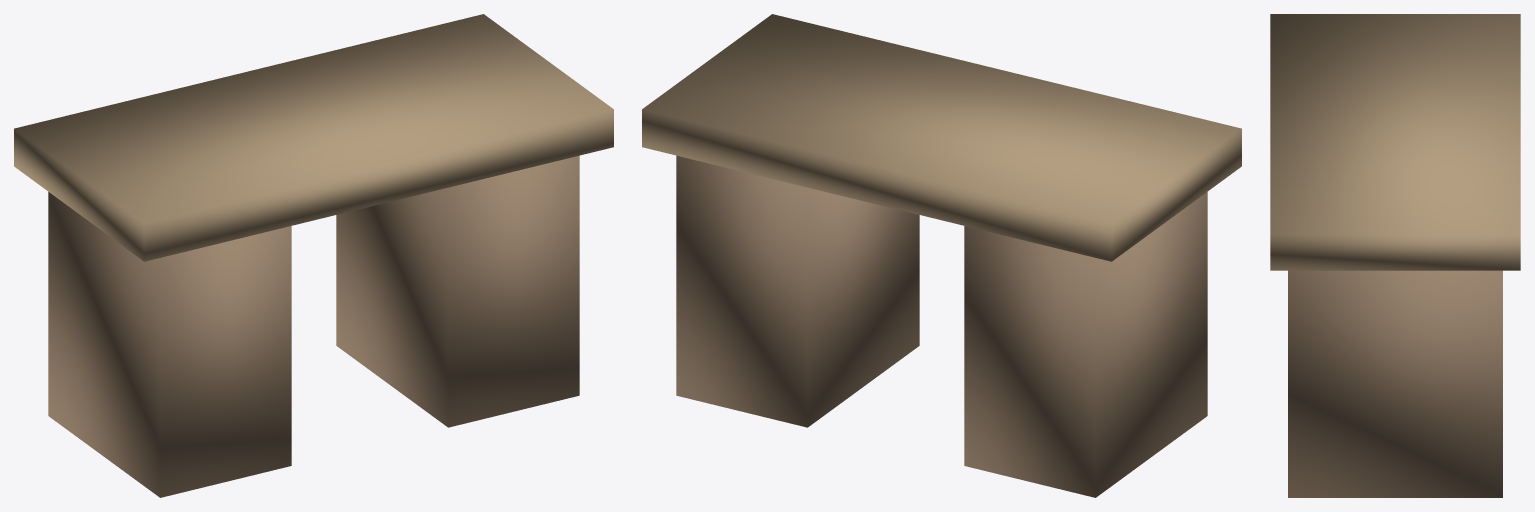
Rendered from teacher_desk__tall.glb.
The picture shows the model from 3 angles, left to right: view 1: azimuth 30°, elevation 25°; view 2: azimuth 150°, elevation 25°; view 3: azimuth 270°, elevation 25°; orthographic projection. The views are drawn at different scales.
Visible parts, largest first — view 1: world; view 2: world; view 3: world.
Boxes of the visible parts, x1=… form: world: x1=14, y1=14, x2=613, y2=497; world: x1=642, y1=14, x2=1241, y2=497; world: x1=1270, y1=14, x2=1520, y2=497.
Bounding box in the file's own units: 1.5 × 0.8758 × 0.72.
